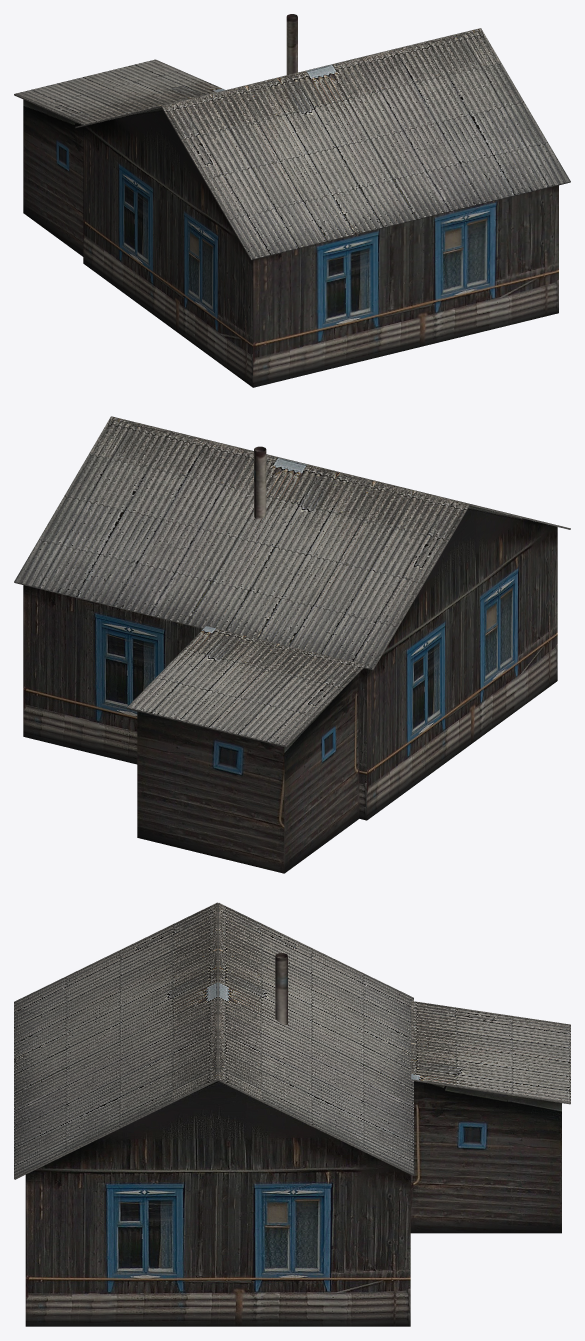
File: r402_ishim_domik11.FBX
3 renders of one model, top to bottom at view 1: azimuth 30°, elevation 25°; view 2: azimuth 150°, elevation 25°; view 3: azimuth 270°, elevation 25°, orthographic. The views are drawn at different scales.
Visible parts, largest first — view 1: r402_ishim_domik11; view 2: r402_ishim_domik11; view 3: r402_ishim_domik11.
Part boxes in pixels (x1=…): r402_ishim_domik11: x1=14, y1=14, x2=570, y2=387; r402_ishim_domik11: x1=14, y1=416, x2=570, y2=873; r402_ishim_domik11: x1=14, y1=902, x2=570, y2=1326.
Bounding box in the file's own units: 731 × 973 × 551.
